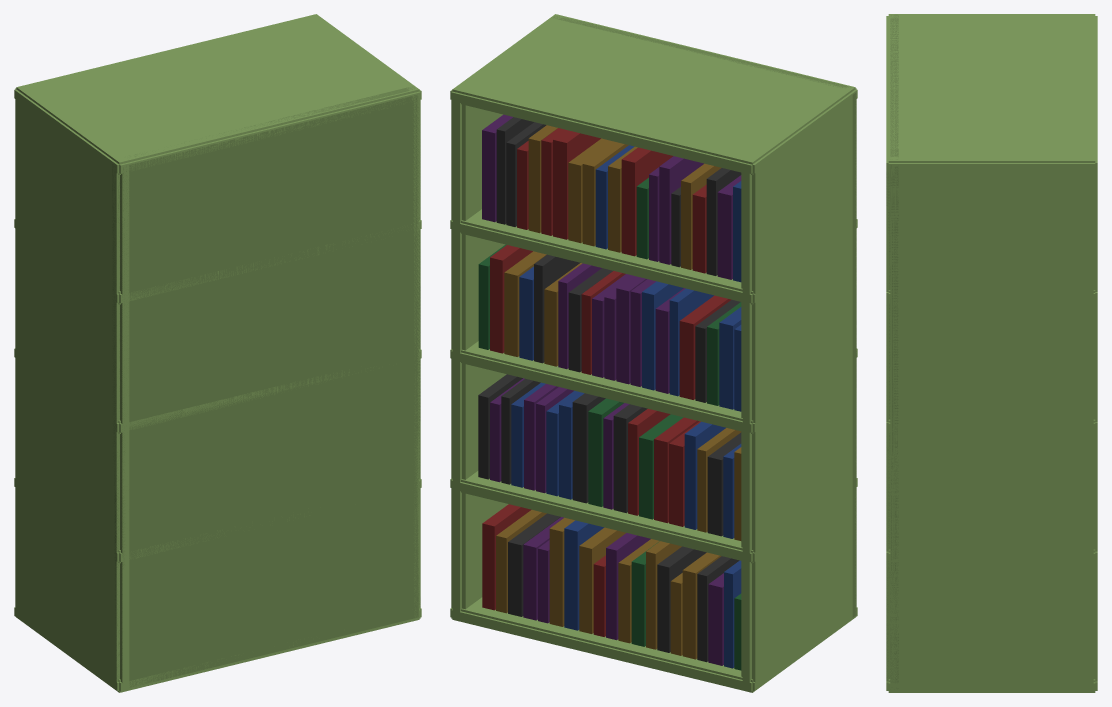
Rendered from cactus_bookcase_v0.glb.
3 views of the same model, side by side, from view 1: azimuth 30°, elevation 25°; view 2: azimuth 150°, elevation 25°; view 3: azimuth 270°, elevation 25° (orthographic).
Parts seen in each view (by area): view 1: cactus_bookcase_v0; view 2: cactus_bookcase_v0; view 3: cactus_bookcase_v0.
Part boxes in pixels (bbox=[...]): cactus_bookcase_v0: bbox=[14, 14, 421, 692]; cactus_bookcase_v0: bbox=[450, 14, 857, 692]; cactus_bookcase_v0: bbox=[886, 14, 1097, 692].
Size of the model in its own units: 1.5 by 2.5 by 0.9.
